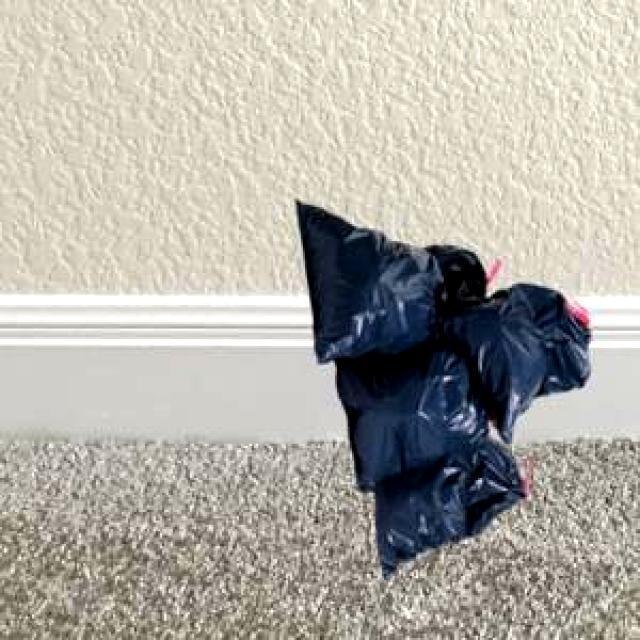Garbage_Bag: (295, 197, 588, 577)
